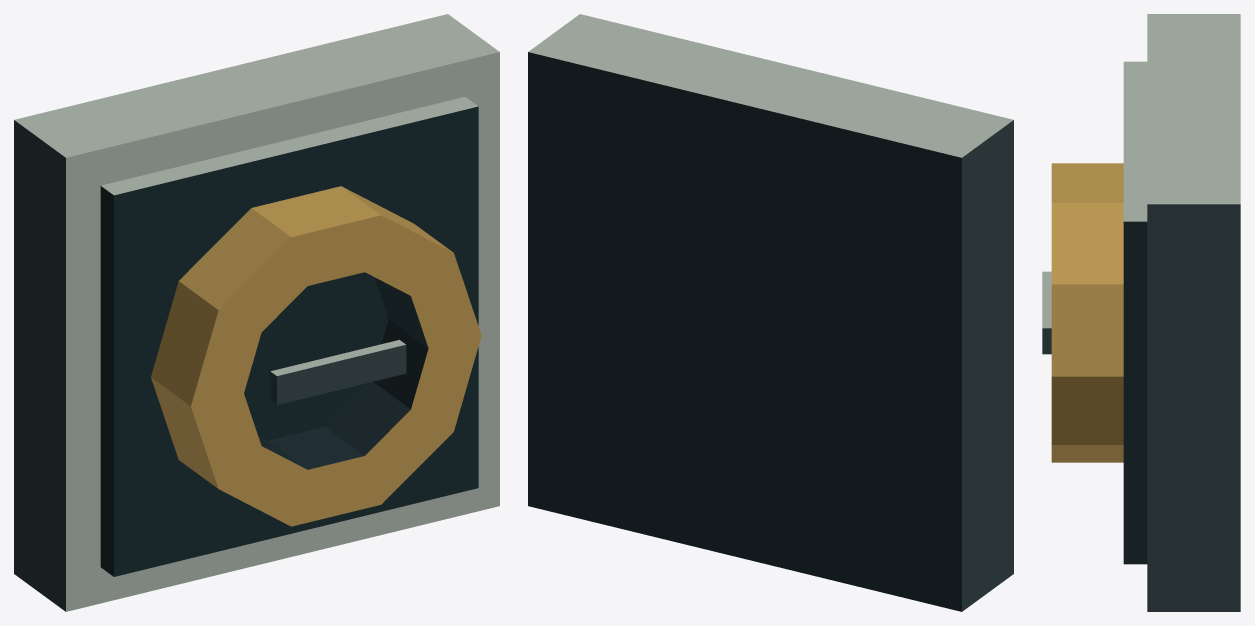
The model's file is desague_pared.glb.
3 views of the same model, side by side, from view 1: azimuth 30°, elevation 25°; view 2: azimuth 150°, elevation 25°; view 3: azimuth 270°, elevation 25° (orthographic). The views are drawn at different scales.
Parts seen in each view (by area): view 1: ELECTRICO; view 2: ELECTRICO; view 3: ELECTRICO.
Part boxes in pixels (box(x1,y1,x2,y2)): ELECTRICO: box(14, 14, 499, 611); ELECTRICO: box(528, 14, 1013, 611); ELECTRICO: box(1042, 14, 1240, 611).
Bounding box in the file's own units: 0.2865 × 0.2865 × 0.1265.
1 material, 1 textured.
